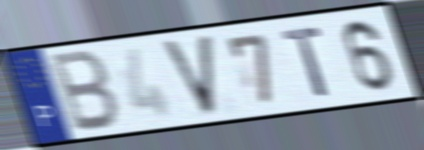4: (126, 44, 173, 122)
6: (340, 17, 397, 94)
7: (223, 31, 272, 108)
B: (48, 48, 122, 135)
T: (279, 24, 334, 100)
V: (158, 32, 219, 119)
